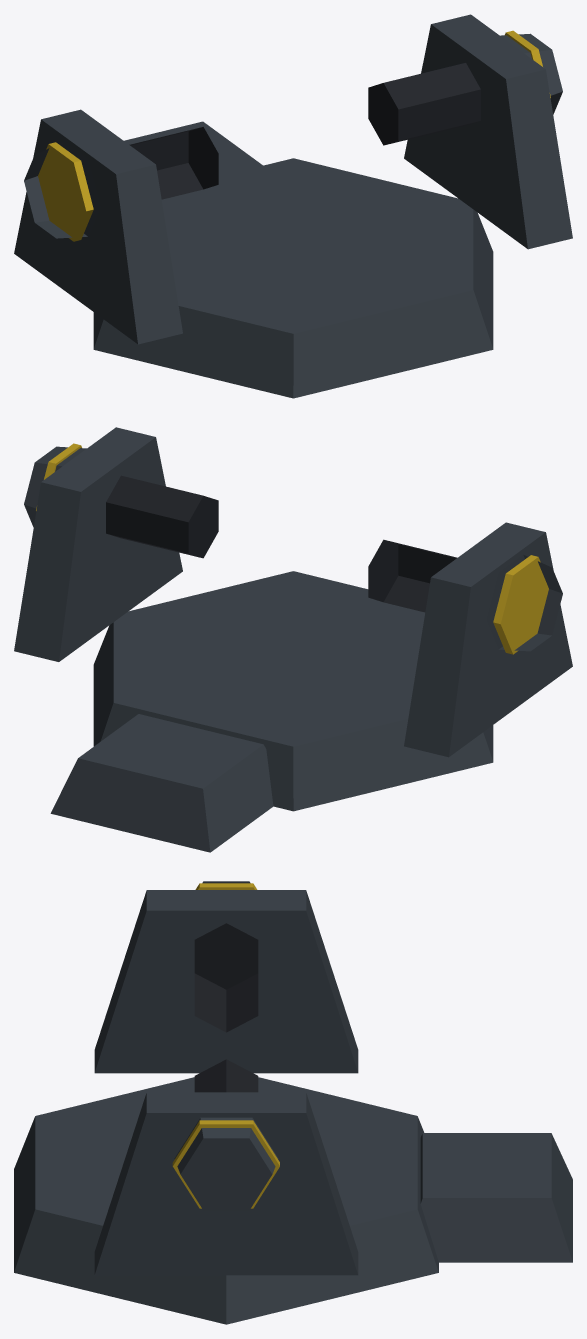
File: bt4_mount.obj
3 views of the same model, one above another, from view 1: azimuth 30°, elevation 25°; view 2: azimuth 150°, elevation 25°; view 3: azimuth 270°, elevation 25° (orthographic). The views are drawn at different scales.
Visible parts, largest first — view 1: bt4_mount; view 2: bt4_mount; view 3: bt4_mount.
Boxes of the visible parts, box(x1,y1,x2,y2) form: bt4_mount: box(14, 14, 572, 398); bt4_mount: box(14, 427, 572, 852); bt4_mount: box(14, 881, 572, 1324).
Bounding box in the file's own units: 1.98 × 0.79 × 1.82.
